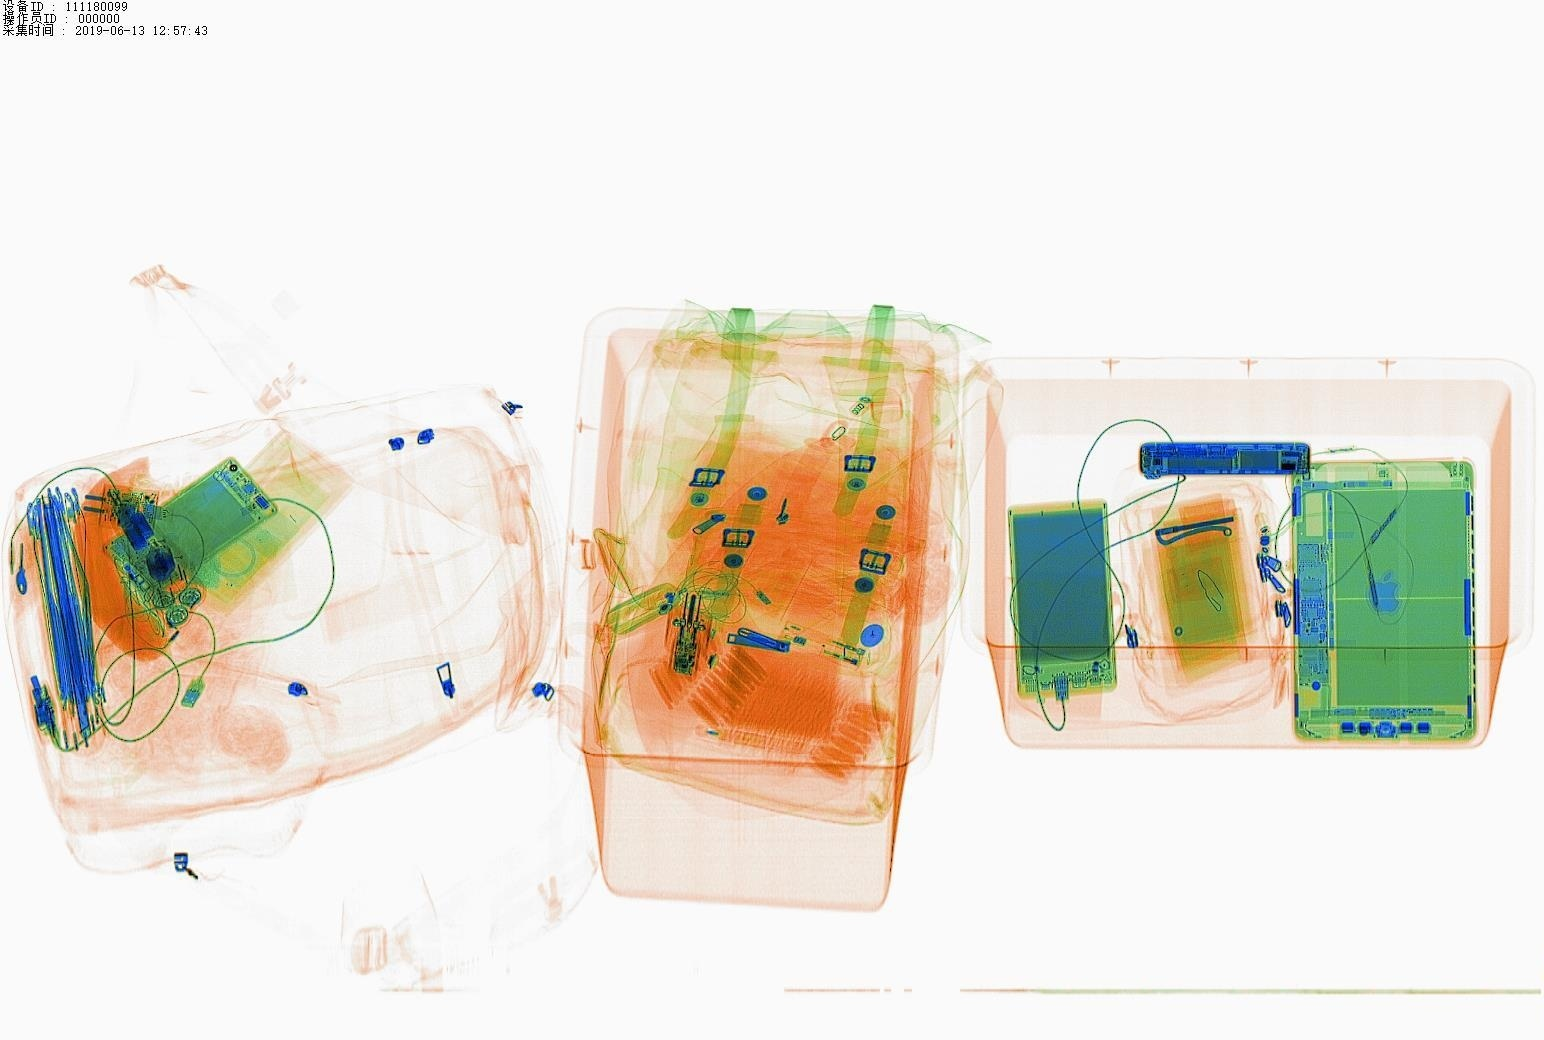NonmetallicFire: (762, 613, 896, 688)
